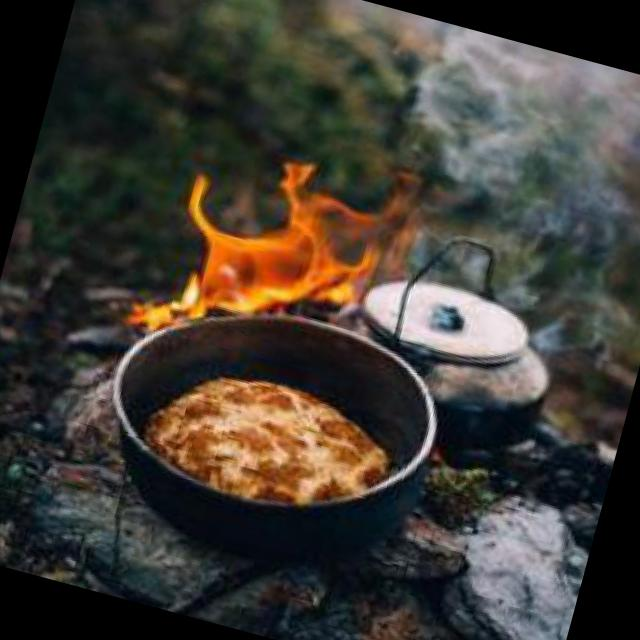fire: (128, 134, 397, 352)
smoke: (365, 19, 640, 338)
